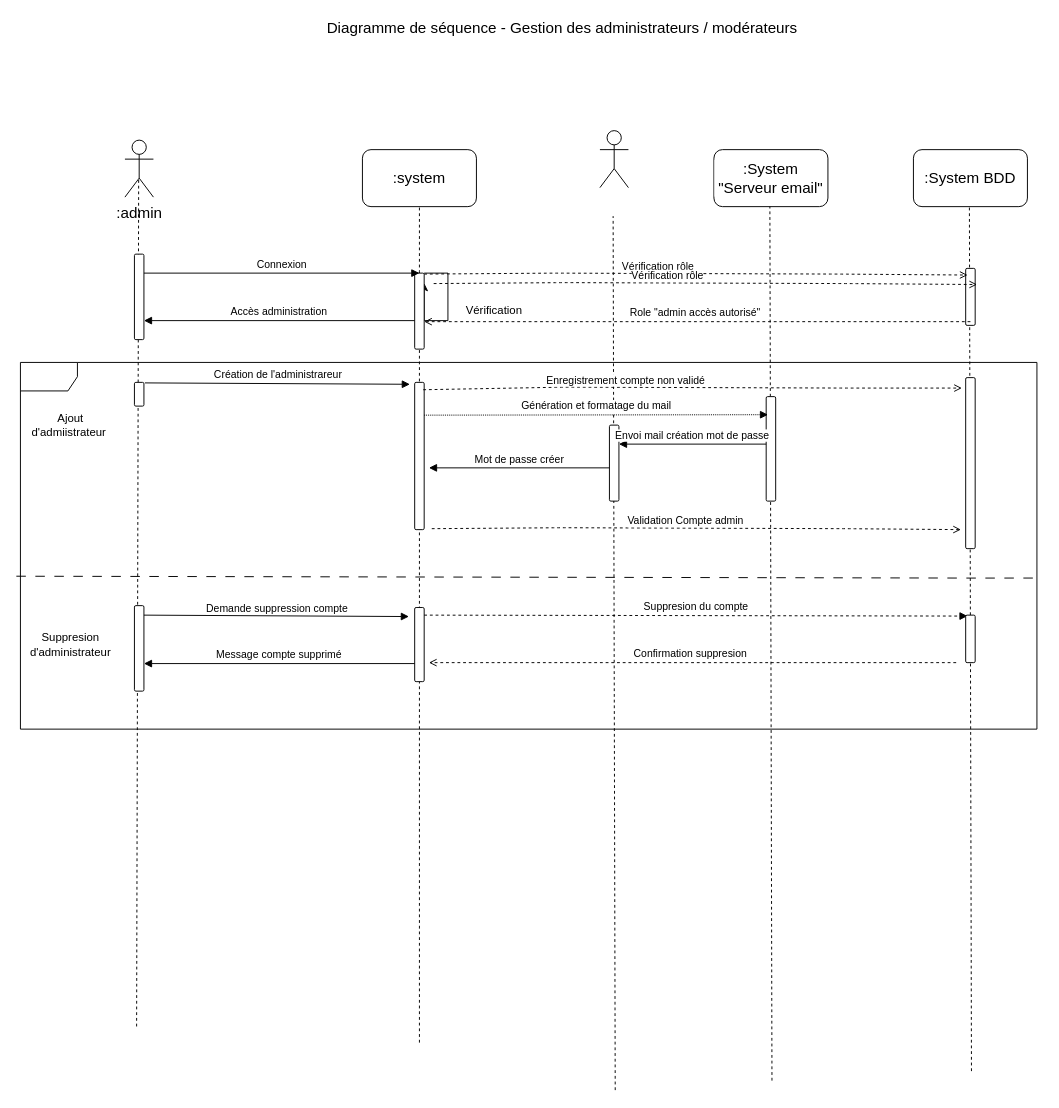
Some shapes in this 1059 by 1108 pixel diagram are drawn without their labels. Here are the shapes that lost their labels. From the top down, the box of each, then its label:
(599, 130, 628, 188): Utilisateurs
(19, 361, 1037, 729): Alternative
